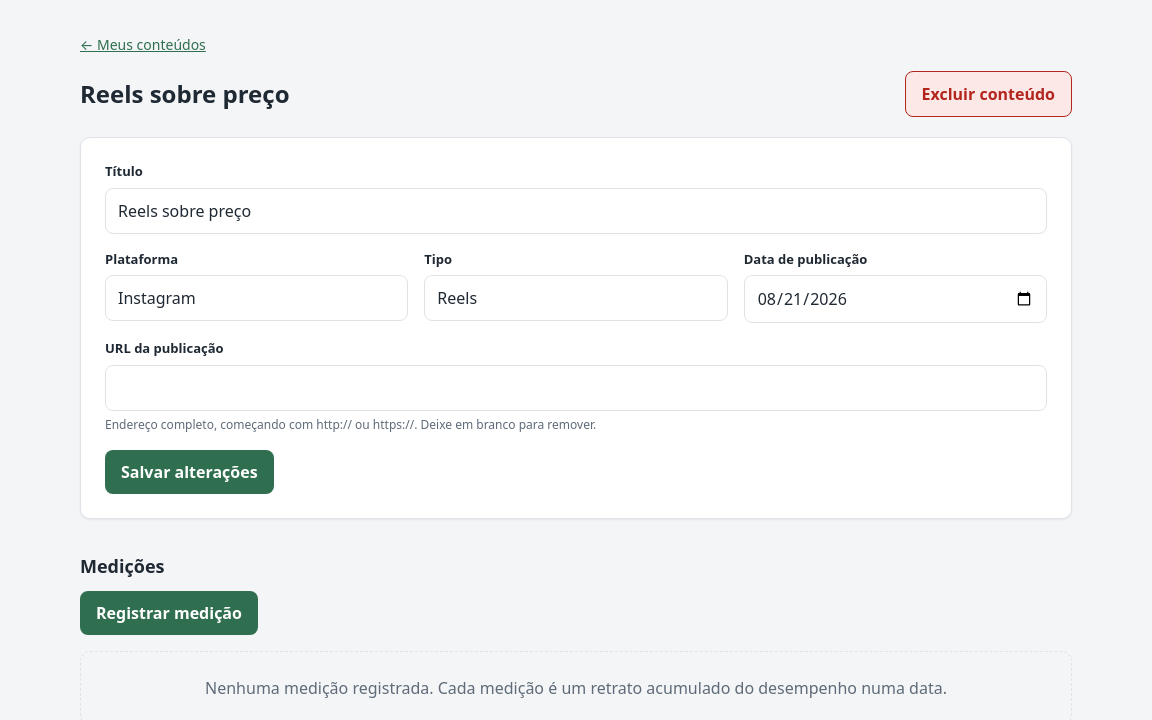
Test: ConteudoDetalhe › mostra o motivo quando salvar o conteúdo falha
Click the button "Salvar alterações": (189, 472) [105,450,274,494]
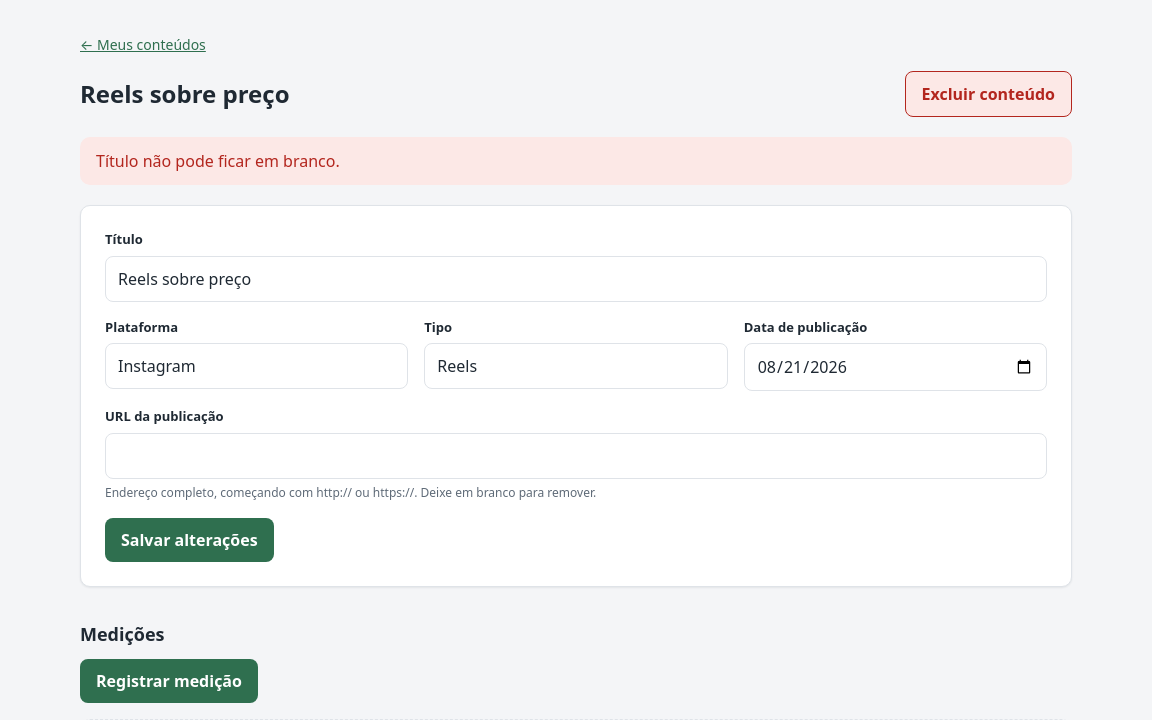
expect the button "Salvar alterações" is enabled: met, box [105,518,274,562]
expect the text "Título não pode ficar em branco." is shown: met, box [80,137,1072,185]
